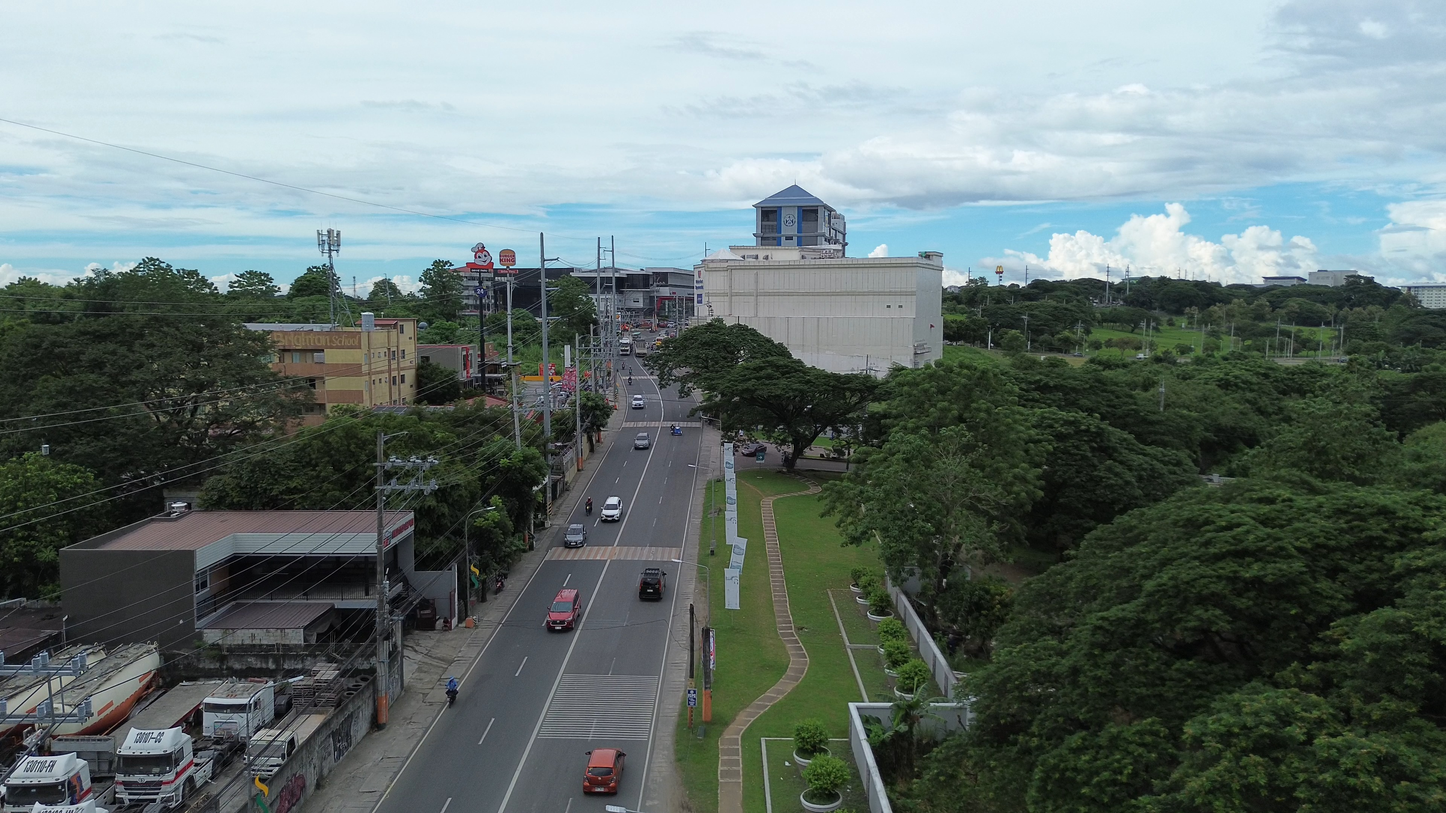car: (583, 748, 625, 794), (545, 588, 581, 631), (601, 497, 622, 521), (736, 442, 765, 456), (633, 432, 650, 449)
motorcycle: (446, 689, 457, 706), (584, 498, 593, 515)
truck: (247, 712, 326, 779), (27, 799, 108, 813)
vehicle: (116, 728, 212, 808), (3, 753, 94, 813), (202, 681, 275, 741), (246, 727, 297, 779), (638, 567, 666, 599), (563, 524, 586, 547), (618, 336, 632, 356), (634, 343, 650, 357), (631, 394, 645, 409), (671, 425, 683, 435)
